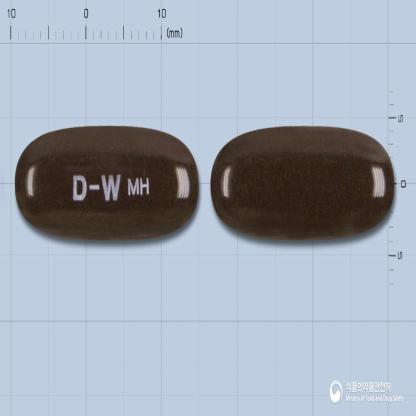pill: (13, 122, 200, 242), (209, 124, 396, 240)
